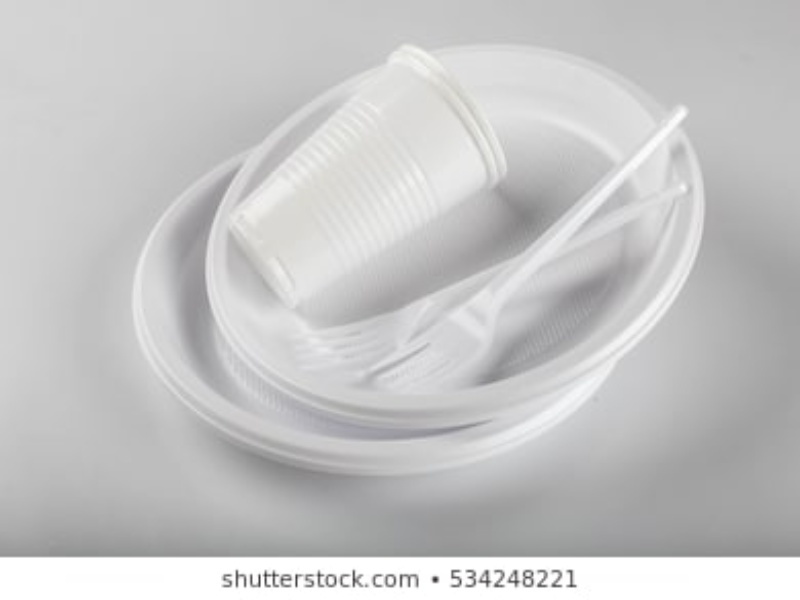plastic-cup: (226, 40, 513, 307)
plastic-plate: (206, 40, 701, 429), (131, 140, 627, 476)
plastic-silverware: (361, 116, 685, 394), (294, 177, 691, 371)
